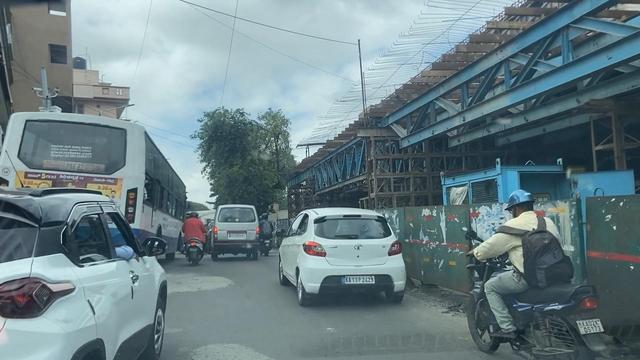LMV: (481, 197, 580, 343), (293, 200, 400, 304), (216, 203, 260, 257), (184, 210, 209, 265)
RoadDamages: (170, 270, 232, 296), (191, 342, 273, 360)
